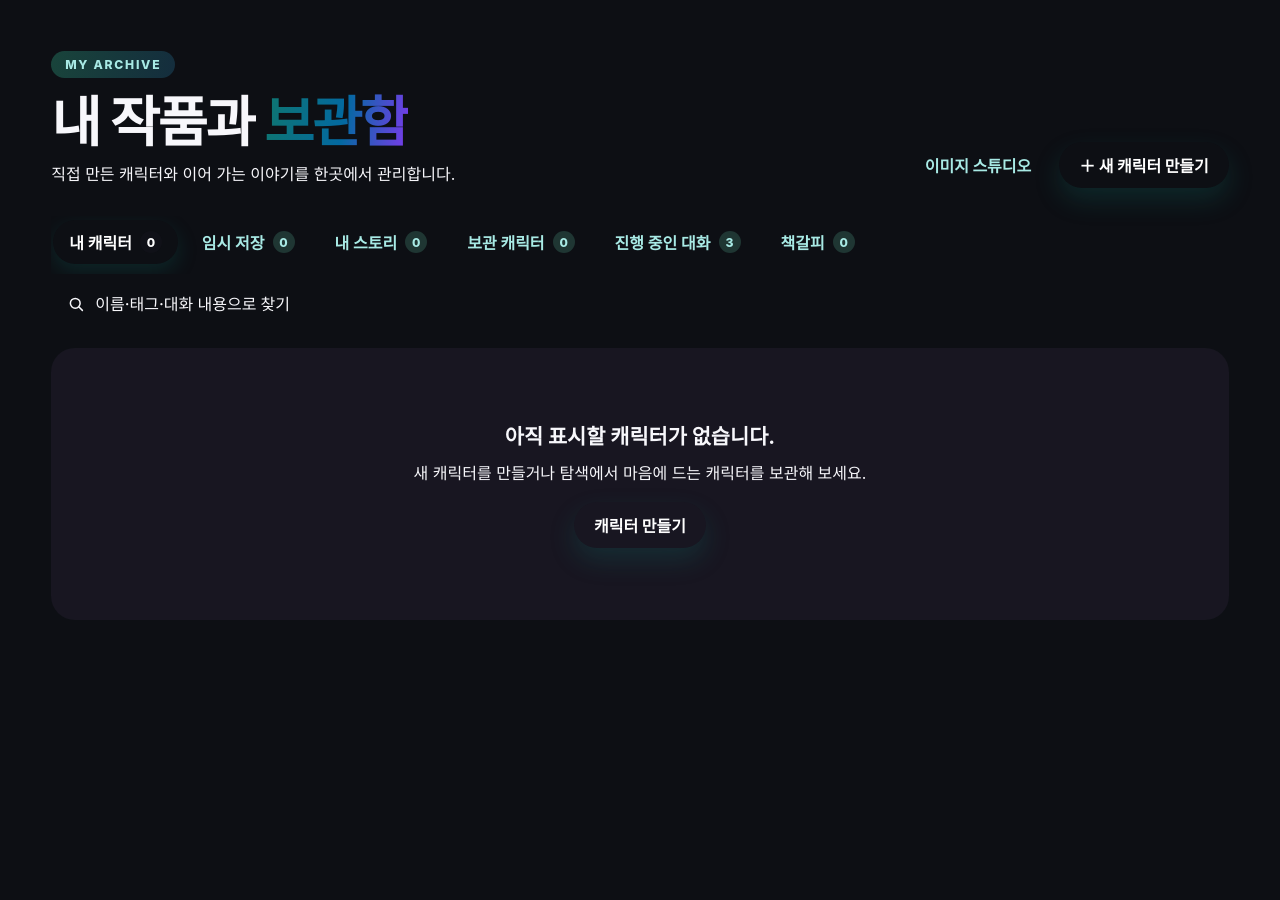
Test case: 삭제 확인 창의 키보드 사용 › 보관함의 대화 삭제 창은 취소에 초점을 두고 Tab이 안에서만 돌며 Esc로 닫으면 연 버튼으로 돌아간다
Click the tab "진행 중인 대화 3". click: [678, 242]
box: [599,220,756,264]
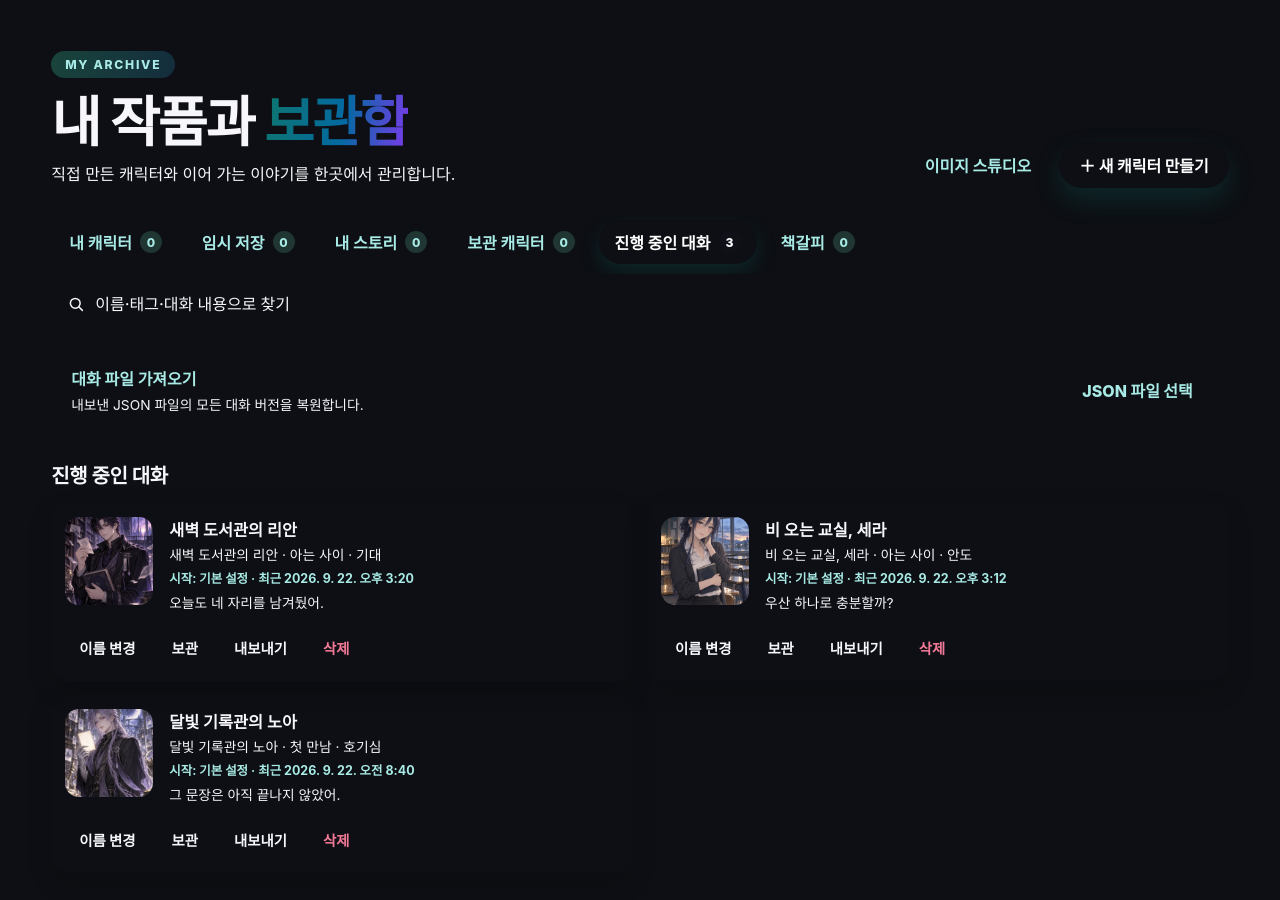
Click the button with aria-label "새벽 도서관의 리안 삭제". click: [336, 647]
box: [309,627,364,667]
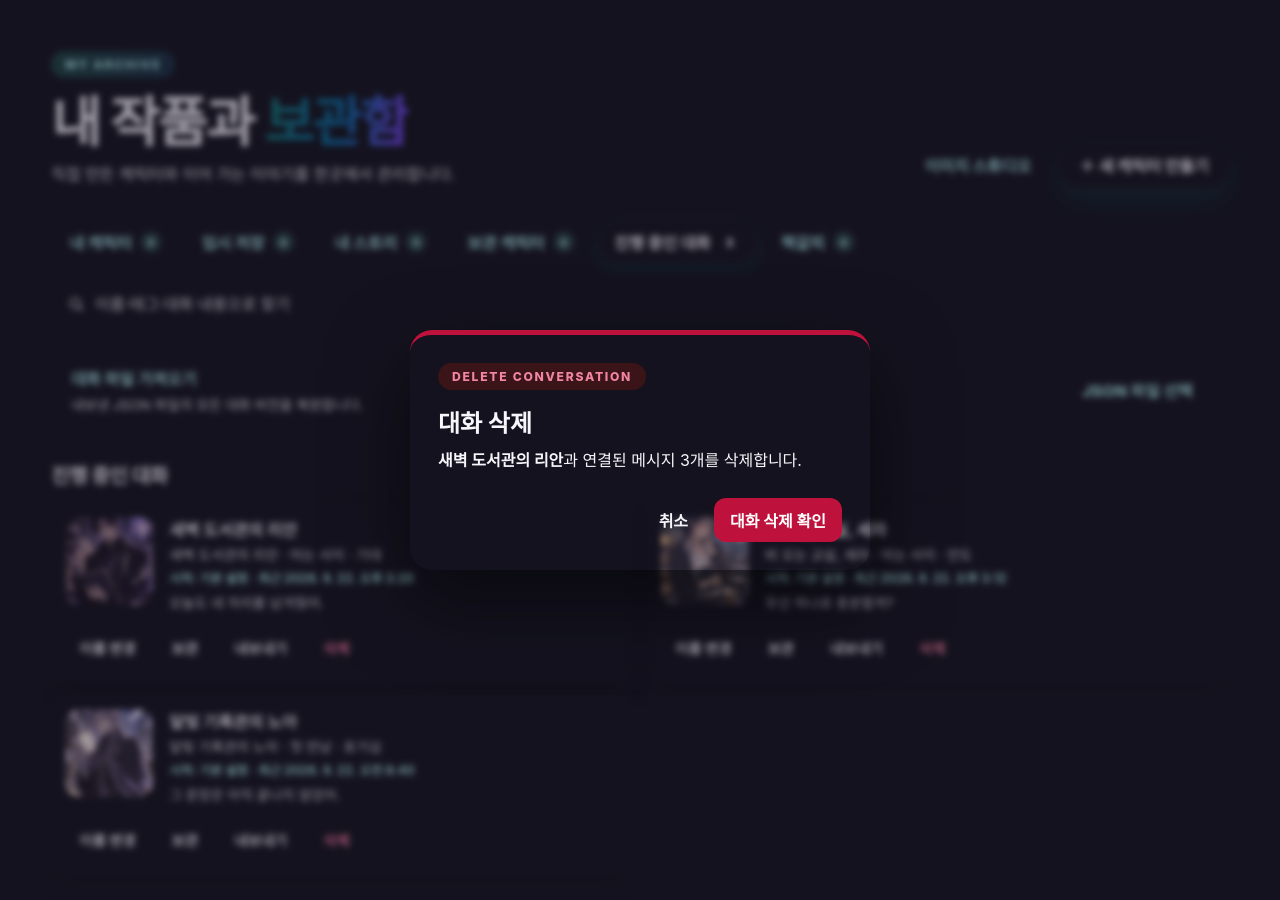
Press Tab
Press Tab
Press Shift+Tab
Press Escape
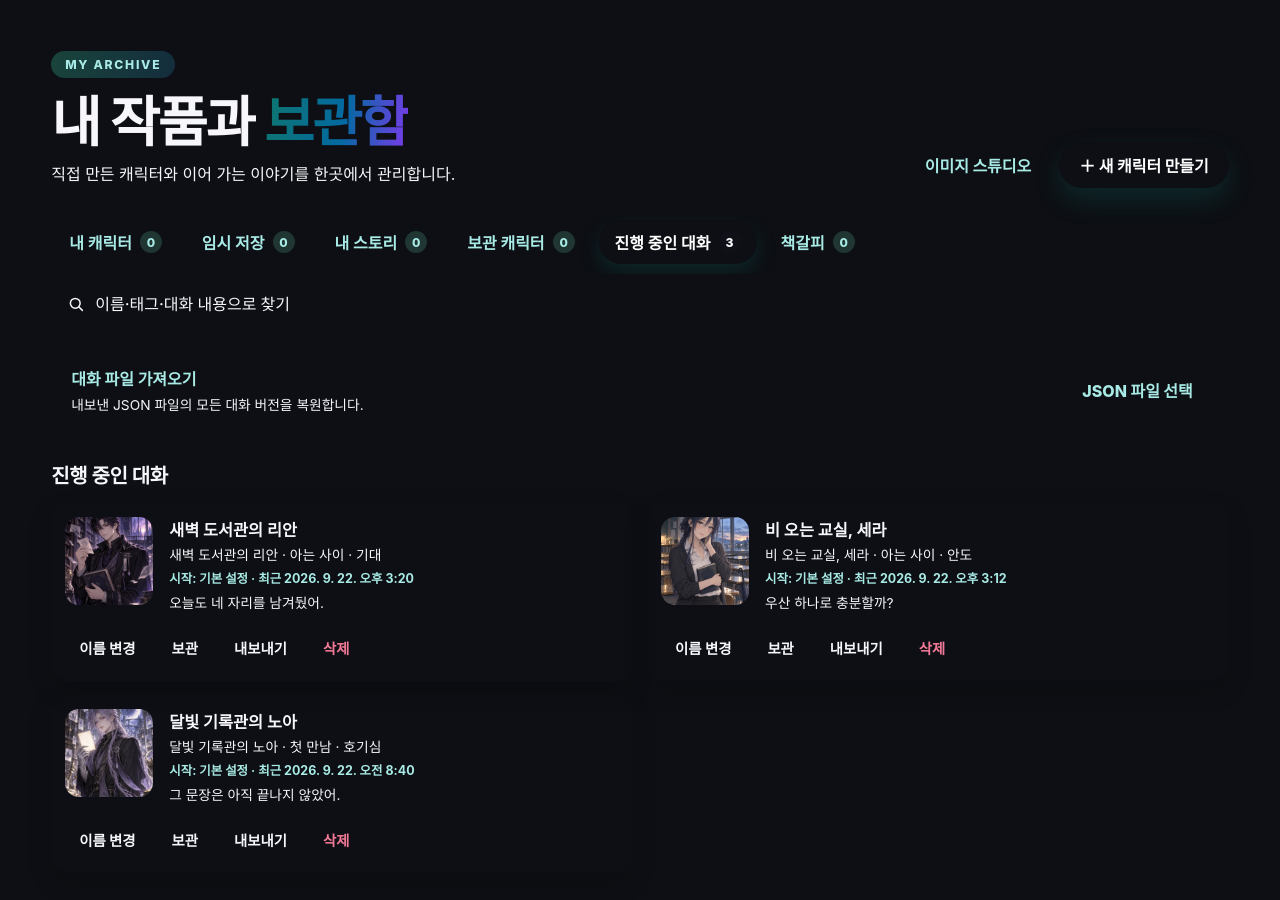
Expected: the panel shows "새벽 도서관의 리안", [51,503,633,627]
Expected: the dialog is gone
